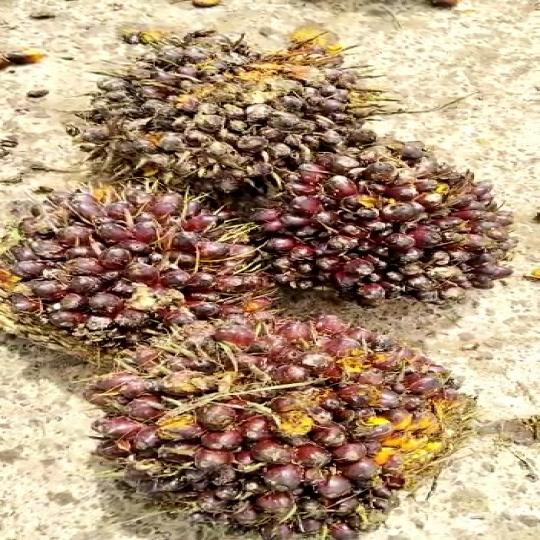kurang masak: (93, 317, 472, 540), (266, 140, 516, 321), (96, 26, 363, 194), (0, 168, 244, 342)
